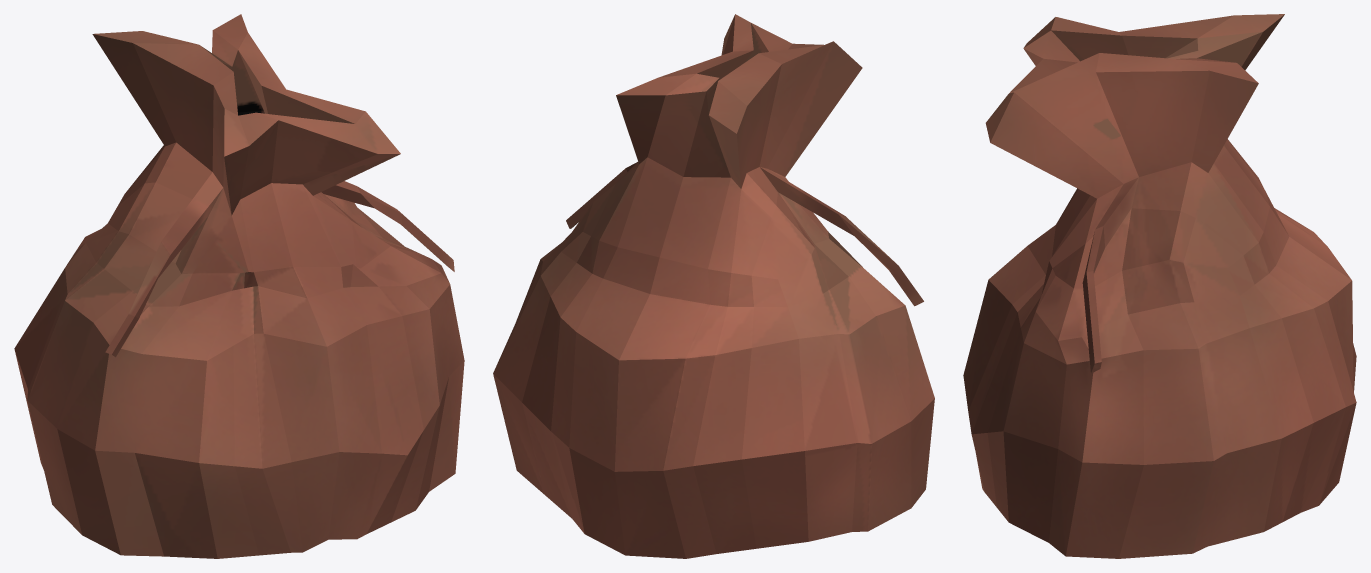
Rendered from BaseLoot.fbx.
3 views of the same model, side by side, from view 1: azimuth 30°, elevation 25°; view 2: azimuth 150°, elevation 25°; view 3: azimuth 270°, elevation 25° (orthographic).
Visible parts, largest first — view 1: Loot; view 2: Loot; view 3: Loot.
Part boxes in pixels (<box>): Loot: <box>14,14,464,558</box>; Loot: <box>493,14,934,558</box>; Loot: <box>963,14,1356,558</box>.
Bounding box in the file's own units: 29.56 × 32.43 × 26.34.
